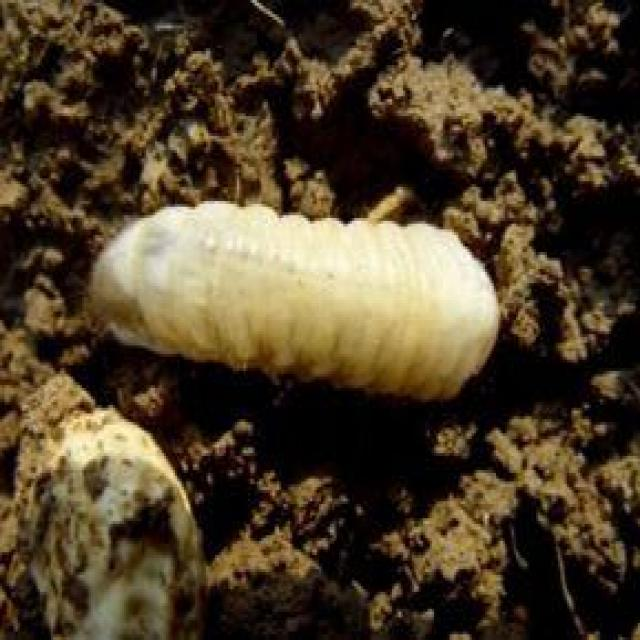Grub-Adult-: (56, 185, 534, 452)
